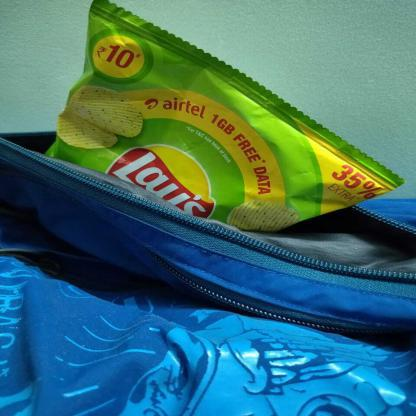cream_and_onion: (42, 4, 406, 234)
